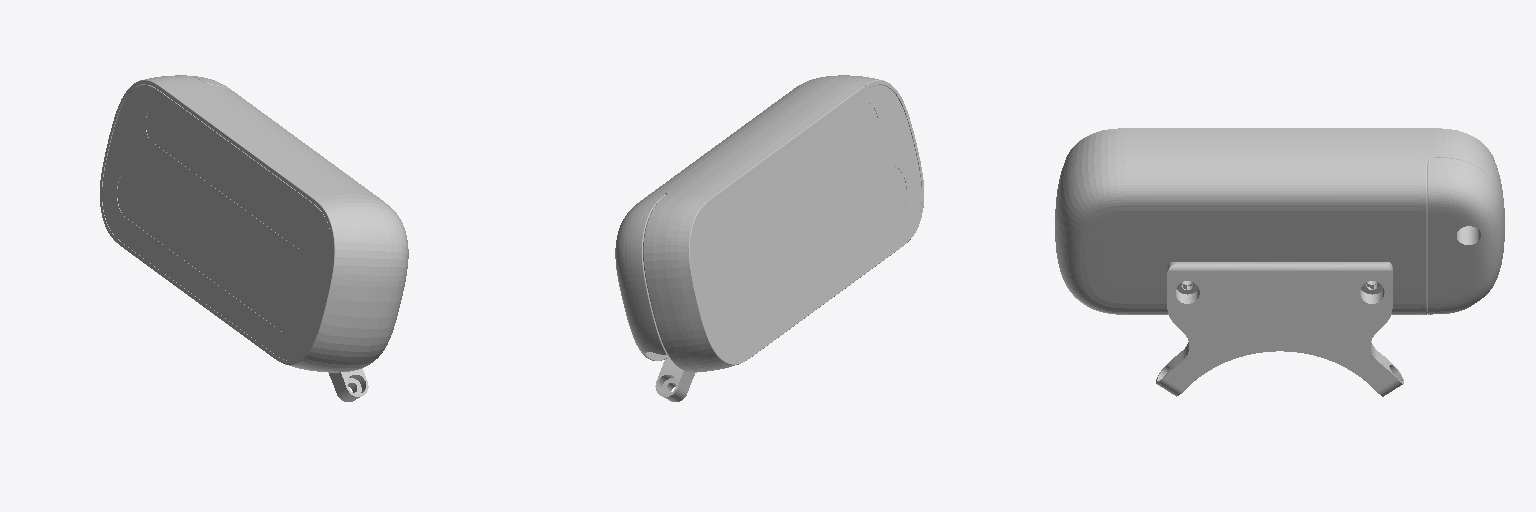
The model's file is right_arm_camera_flange_link.obj.
The picture shows the model from 3 angles: view 1: azimuth 30°, elevation 25°; view 2: azimuth 150°, elevation 25°; view 3: azimuth 270°, elevation 25°; orthographic projection.
Visible parts, largest first — view 1: default; view 2: default; view 3: default.
Part boxes in pixels (left/top/right/bottom): default: left=100, top=75, right=408, bottom=401; default: left=615, top=75, right=923, bottom=401; default: left=1055, top=128, right=1504, bottom=396.
Size of the model in its own units: 0.0327 by 0.0637 by 0.1097.